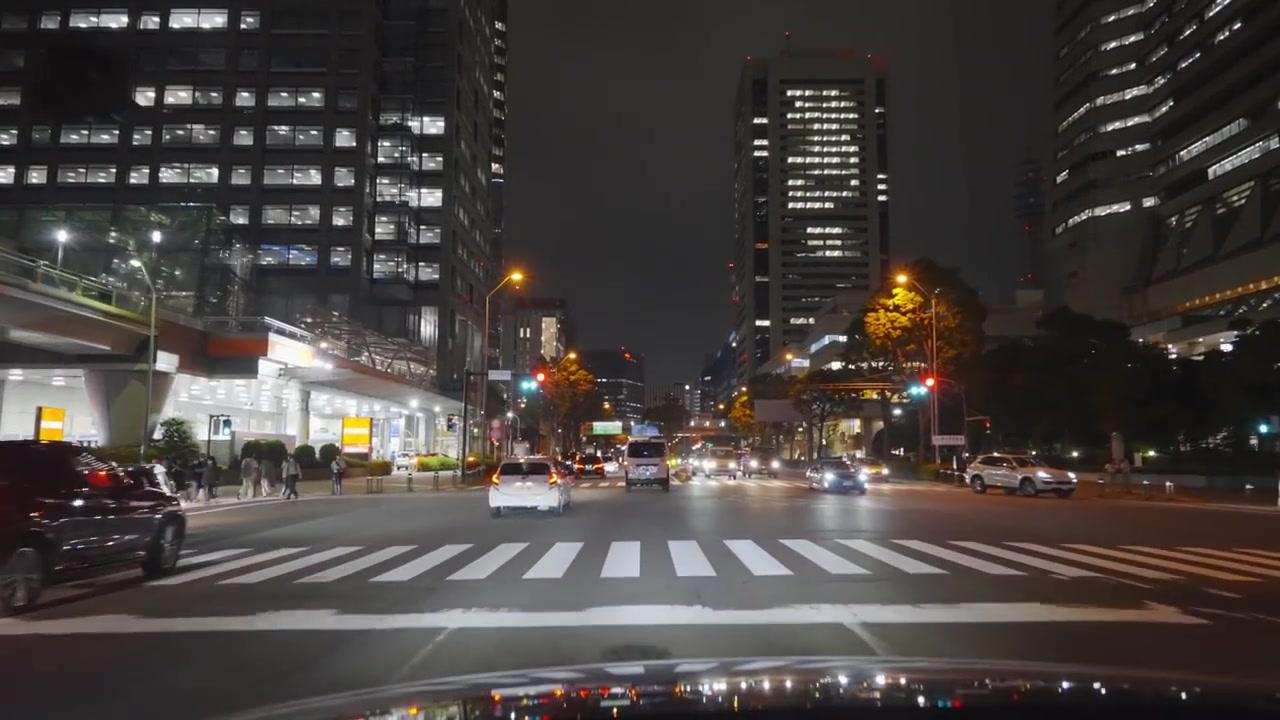bus: (624, 438, 670, 492)
car: (0, 438, 187, 612), (488, 457, 574, 519), (963, 453, 1077, 498), (807, 458, 868, 495), (706, 449, 742, 480), (740, 453, 779, 479), (575, 456, 606, 477)
person: (280, 453, 301, 500), (239, 455, 259, 499), (201, 455, 219, 502), (192, 455, 210, 501), (329, 455, 345, 496)
traffic light: (534, 369, 547, 390), (921, 376, 935, 393)
